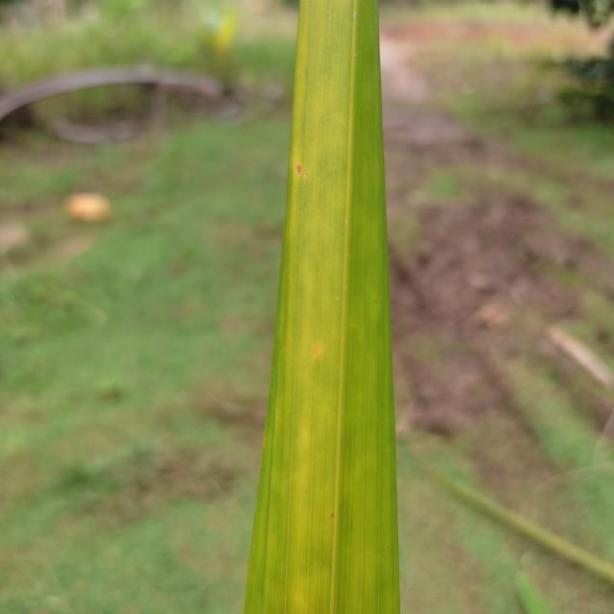nitrogen: (253, 5, 398, 614)
